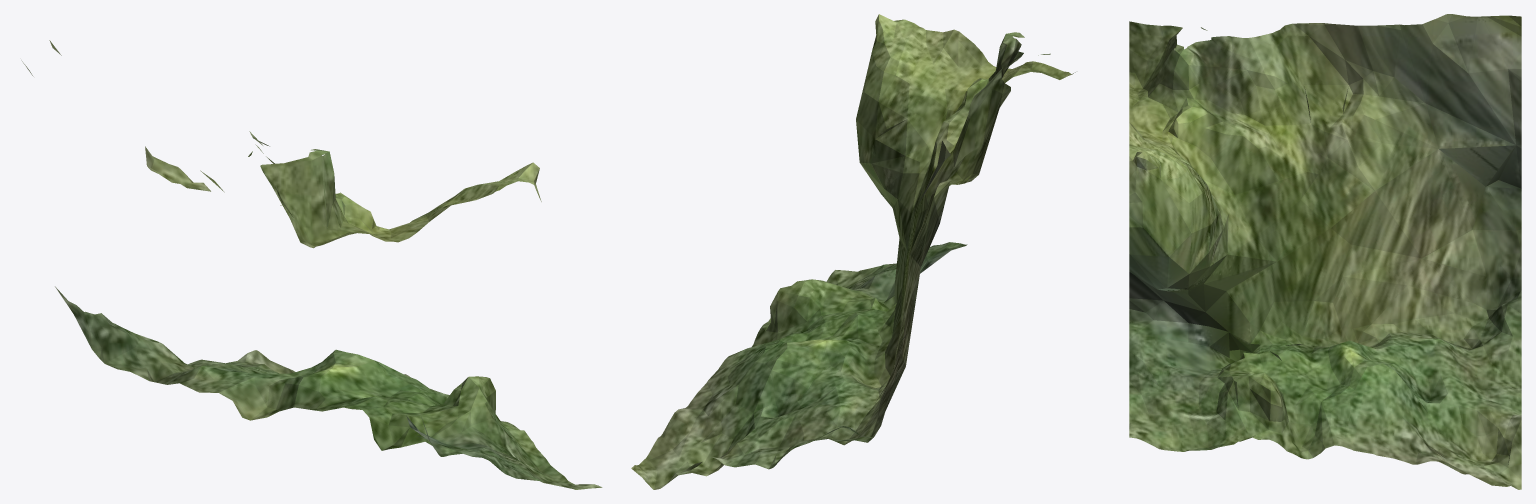
3 renders of one model, left to right at view 1: azimuth 30°, elevation 25°; view 2: azimuth 150°, elevation 25°; view 3: azimuth 270°, elevation 25°, orthographic. The views are drawn at different scales.
Size of the model in its own units: 4.68 by 5.89 by 5.9.
4 materials, 4 textured.
